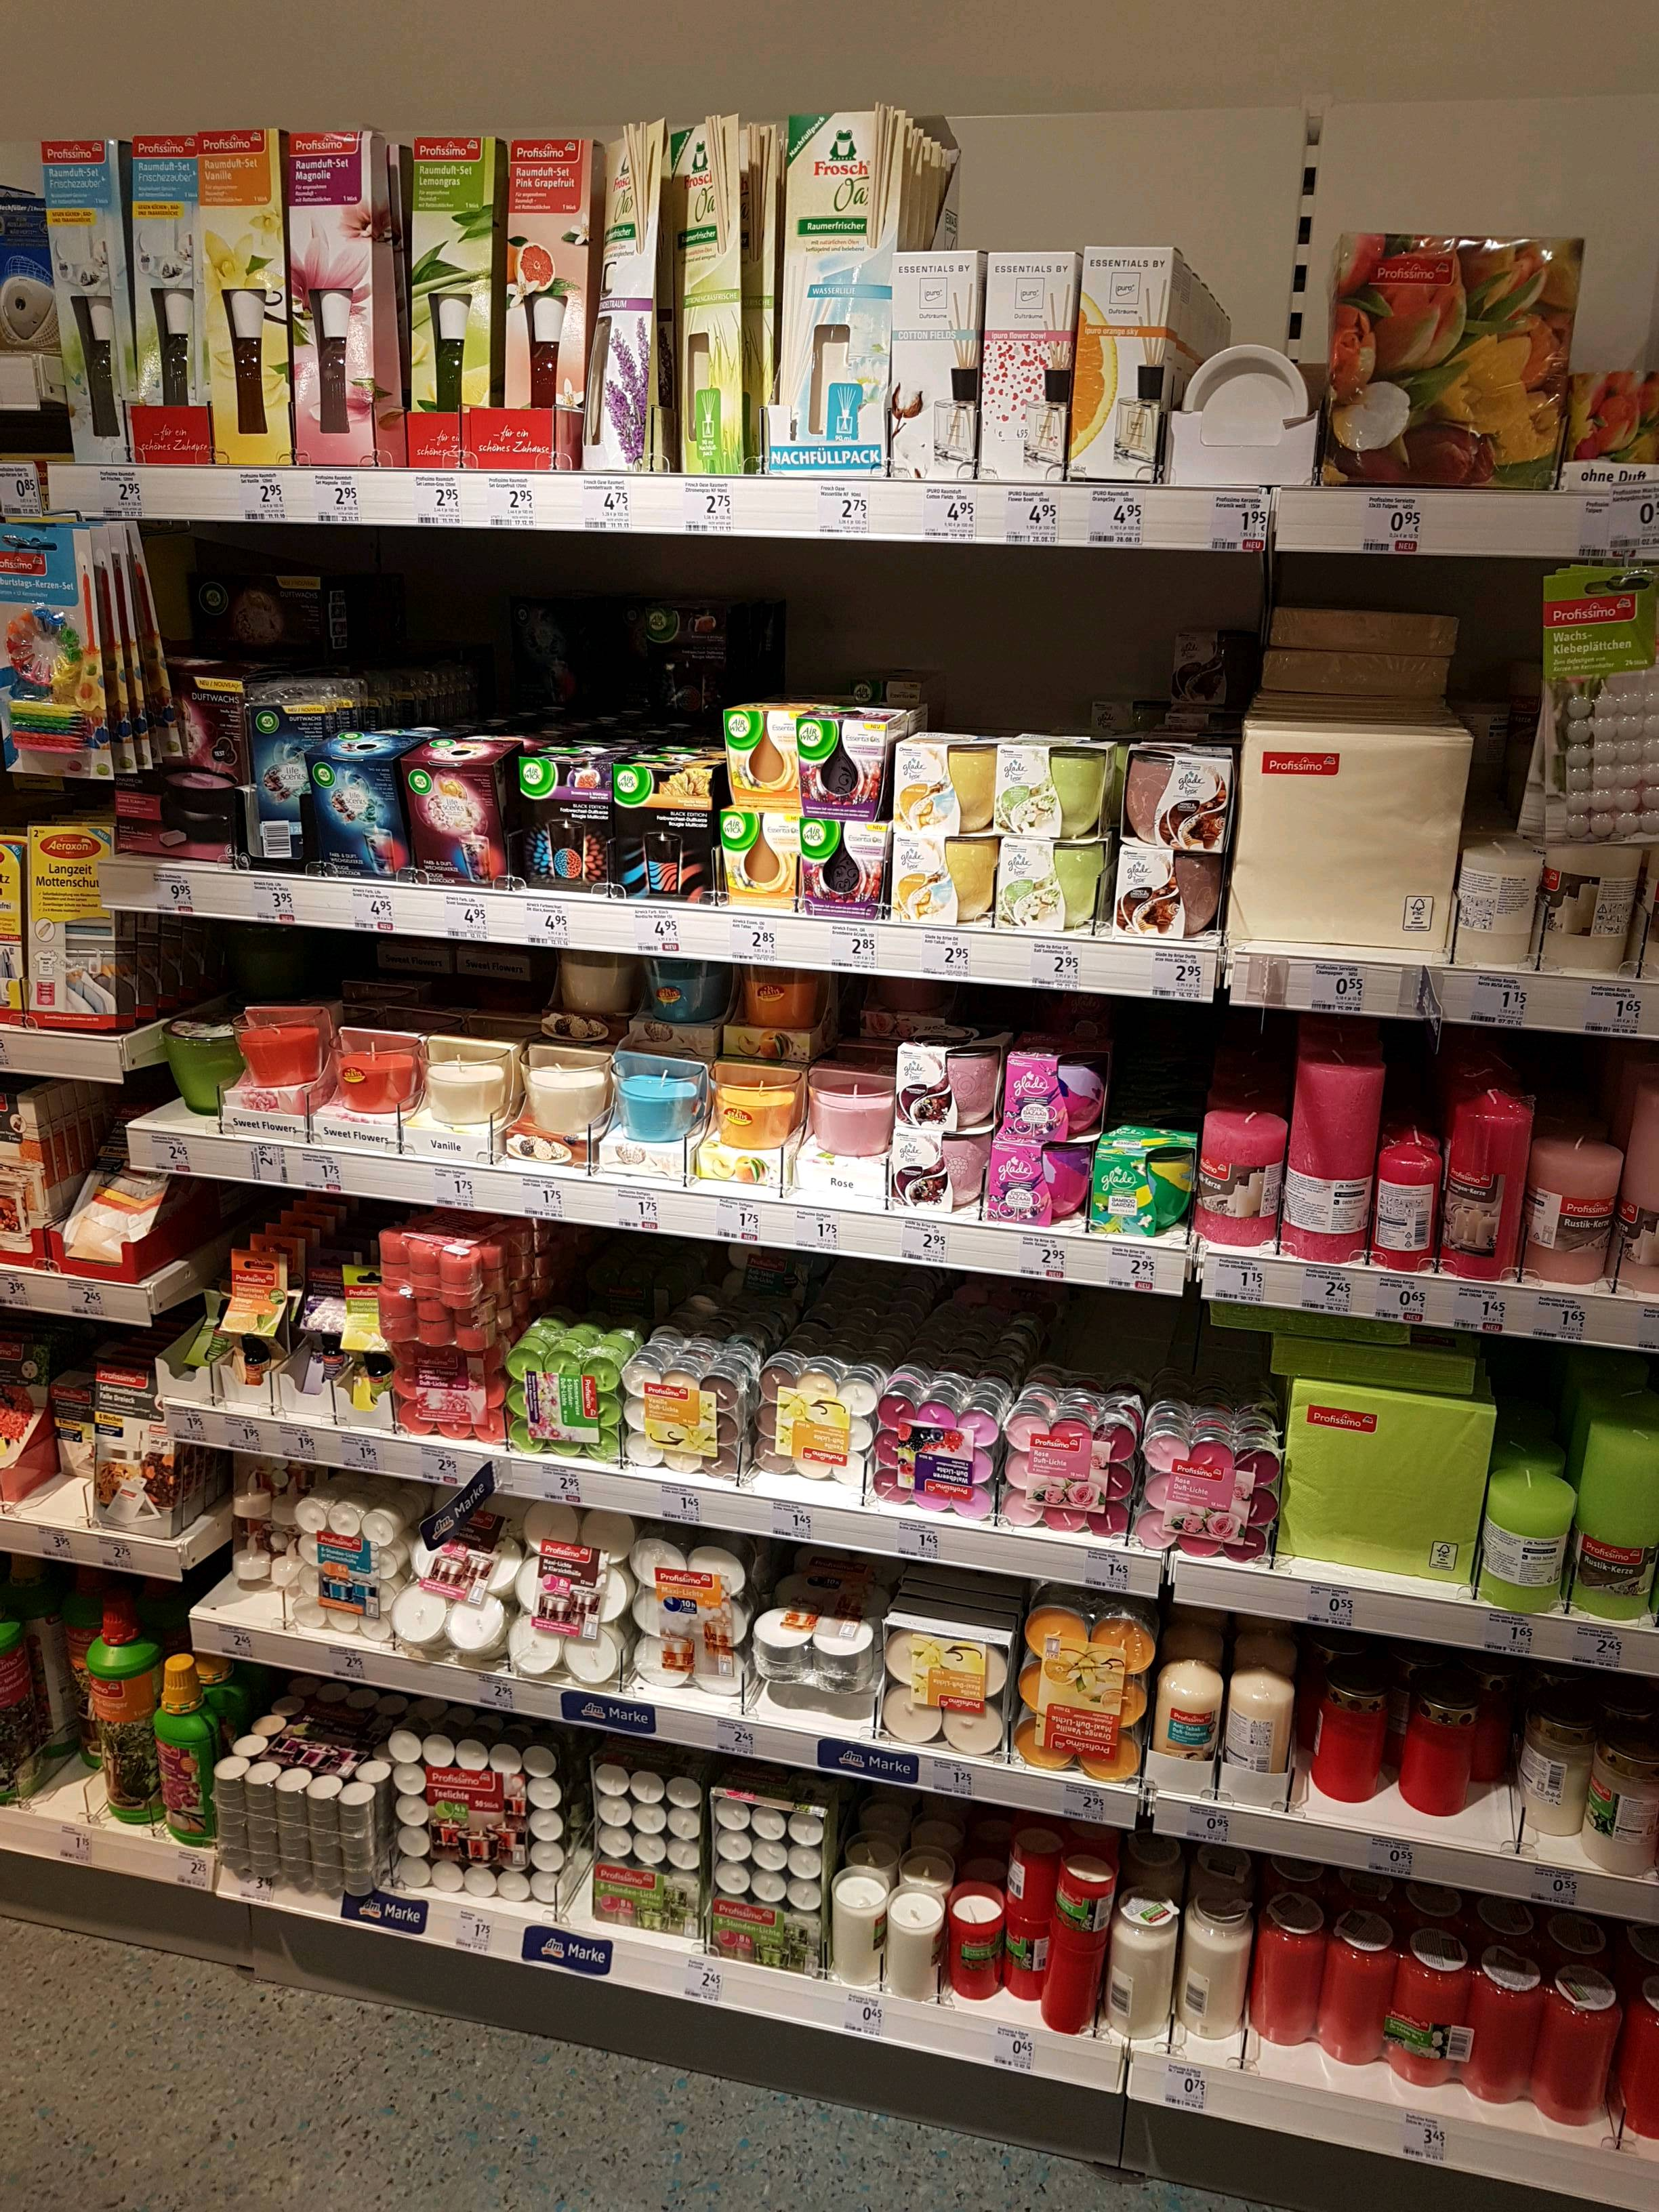product: (1333, 223, 1549, 493), (1249, 716, 1453, 954), (760, 113, 885, 475), (1286, 1381, 1478, 1613), (387, 131, 497, 481), (666, 113, 762, 472), (495, 132, 593, 481), (289, 127, 387, 472), (1535, 577, 1659, 848), (392, 1726, 561, 1919), (197, 127, 291, 472), (2, 519, 120, 784), (40, 132, 125, 475), (880, 1552, 1006, 1766), (1007, 1585, 1147, 1764), (626, 1514, 749, 1716), (1073, 240, 1176, 482), (125, 127, 197, 474), (974, 247, 1077, 488), (594, 132, 666, 470), (1176, 336, 1330, 491), (512, 1493, 629, 1693), (1276, 1043, 1387, 1252), (699, 1784, 828, 1963), (589, 1747, 704, 1944), (1126, 1423, 1293, 1555), (19, 813, 120, 1029), (749, 1552, 882, 1716), (1000, 1386, 1126, 1554), (397, 1479, 509, 1667), (136, 679, 247, 857), (756, 1353, 878, 1512), (606, 732, 713, 911), (894, 251, 974, 486), (403, 719, 507, 897), (1448, 1064, 1532, 1284), (188, 549, 361, 655), (1584, 1400, 1659, 1629), (505, 730, 606, 897), (629, 1353, 756, 1480), (1148, 1583, 1220, 1806), (91, 1364, 178, 1545), (152, 1597, 213, 1855), (493, 1036, 613, 1165), (1516, 1684, 1598, 1872), (518, 1338, 626, 1479), (293, 1489, 392, 1642), (877, 1388, 999, 1510), (1478, 1477, 1584, 1613), (390, 1341, 514, 1458), (87, 1599, 152, 1817), (2, 1073, 73, 1268), (1528, 1122, 1610, 1291), (308, 719, 401, 869), (697, 1057, 805, 1184), (807, 1055, 889, 1221), (234, 991, 319, 1150), (1528, 860, 1642, 979), (1169, 1878, 1249, 2045), (317, 1019, 420, 1148), (70, 1120, 152, 1280), (35, 1564, 92, 1792), (1539, 1949, 1610, 2132), (1121, 738, 1230, 853), (1448, 1951, 1537, 2092), (1206, 1296, 1424, 1353), (505, 610, 619, 719), (613, 1038, 697, 1184), (1220, 1665, 1305, 1808), (1570, 362, 1657, 502), (1314, 1905, 1396, 2054), (1263, 592, 1459, 653), (1256, 650, 1455, 709), (246, 681, 308, 867), (1199, 1103, 1276, 1252), (1452, 829, 1528, 979), (993, 833, 1112, 928), (1312, 1651, 1384, 1810), (995, 738, 1115, 833), (418, 1017, 493, 1165), (1251, 1879, 1314, 2054), (896, 726, 997, 834), (641, 606, 727, 733), (1119, 852, 1230, 944), (1396, 1911, 1450, 2094), (1114, 1878, 1171, 2048), (890, 834, 997, 927), (803, 712, 896, 819), (1615, 1076, 1659, 1301), (1103, 1129, 1187, 1244), (1601, 1710, 1659, 1878), (378, 1219, 512, 1291), (1002, 1045, 1098, 1143), (2, 1334, 56, 1507), (227, 1474, 296, 1602), (1385, 1136, 1446, 1282), (993, 1141, 1098, 1226), (164, 1000, 234, 1127), (713, 815, 805, 911), (1396, 1646, 1445, 1825), (809, 819, 894, 920), (894, 1042, 999, 1123), (727, 705, 803, 815), (636, 948, 730, 1035), (896, 1125, 999, 1204), (829, 1855, 889, 1991), (551, 939, 633, 1028), (1610, 1993, 1659, 2137), (376, 1289, 505, 1343), (885, 1888, 951, 1991), (1037, 1949, 1112, 2034), (732, 963, 821, 1033), (863, 972, 958, 1036), (225, 1318, 293, 1409), (1286, 1352, 1478, 1381), (1053, 1853, 1112, 1947), (343, 1766, 383, 1904), (305, 1764, 343, 1905), (295, 1317, 340, 1432), (953, 1890, 999, 2003), (181, 1294, 223, 1407), (338, 1348, 394, 1430), (242, 1754, 277, 1883), (999, 1918, 1047, 2003), (206, 1754, 242, 1865), (63, 1376, 94, 1487), (1009, 1831, 1047, 1919), (279, 1763, 307, 1883)
